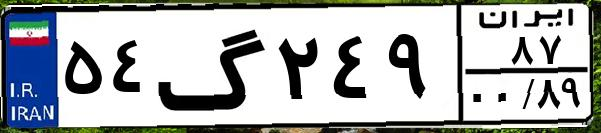0: (470, 70, 495, 125), (495, 70, 520, 125)
2: (270, 28, 330, 110)
4: (330, 28, 385, 110), (110, 28, 156, 98)
5: (57, 26, 110, 100)
7: (537, 27, 568, 80)
8: (508, 27, 537, 80), (535, 70, 560, 125)
9: (385, 28, 445, 110), (560, 70, 590, 125)
گ: (156, 12, 270, 120)
